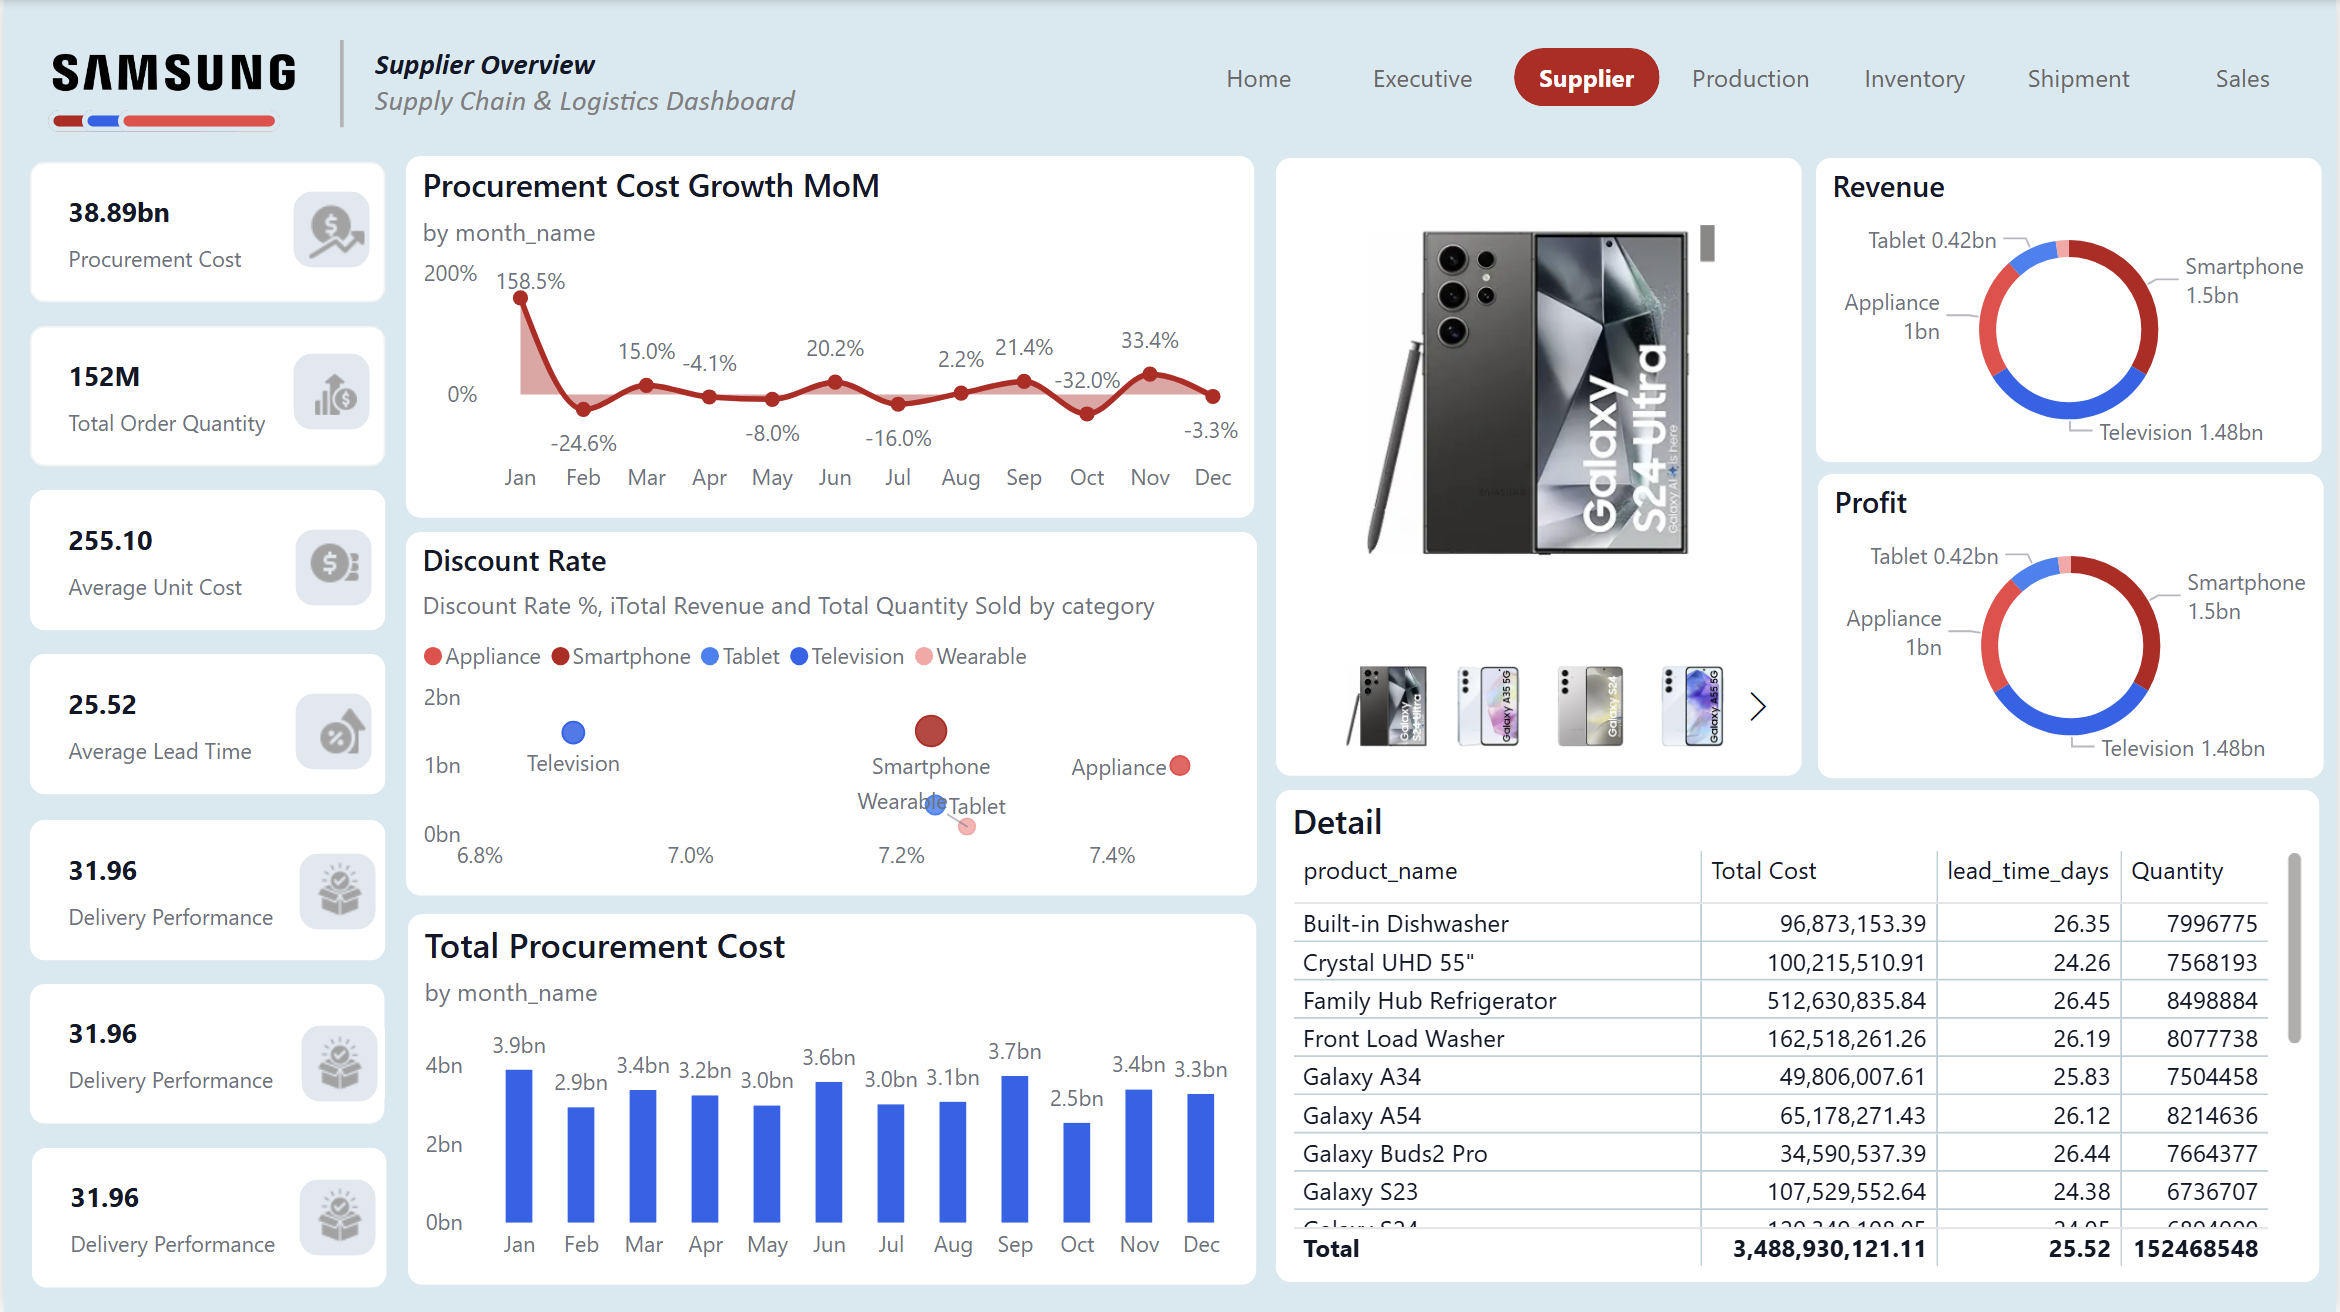

Layout of this report page (visuals, bound fields, positions):
{"tool":"powerbi","page":{"name":"Supplier","canvas":[1280,720],"ordinal":2},"visuals":[{"type":"shape","box":[698.1,86.9,288.7,338.9],"z":0},{"type":"cardVisual","fields":{"Data":["MeasureTable.Delivery Performance Score"]},"box":[13.7,449.5,195,77],"z":1000},{"type":"tableEx","title":"Detail","fields":{"Values":["dim_product.product_name","MeasureTable.Total Cost","Avg(fact_procurement.lead_time_days)","MeasureTable.Total Order Quantity"]},"box":[697.9,433,572.3,269.9],"z":2000},{"type":"areaChart","fields":{"Category":["dim_date.month_name"],"Y":["MeasureTable.Procurement Cost Growth MoM"]},"box":[220.9,85.4,465.7,198.3],"z":3000},{"type":"scatterChart","title":"Discount Rate ","fields":{"X":["MeasureTable.Discount Rate %"],"Y":["MeasureTable.iTotal Revenue"],"Size":["MeasureTable.Total Quantity Sold"],"Series":["dim_product.category"]},"box":[220.9,292.5,466.9,199.6],"z":4000},{"type":"clusteredColumnChart","fields":{"Category":["dim_date.month_name"],"Y":["MeasureTable.Total Procurement Cost"]},"box":[222.2,502.1,465.7,203.3],"z":5000},{"type":"cardVisual","fields":{"Data":["MeasureTable.Total Procurement Cost"]},"box":[13.7,88.6,195,77],"z":6000},{"type":"cardVisual","fields":{"Data":["MeasureTable.Average Lead Time Days"]},"box":[13.7,359.3,195,77],"z":7000},{"type":"cardVisual","fields":{"Data":["MeasureTable.Average Unit Cost"]},"box":[13.7,269,195,77],"z":8000},{"type":"cardVisual","fields":{"Data":["MeasureTable.Total Order Quantity"]},"box":[13.7,178.8,195,77],"z":9000},{"type":"shape","box":[154.6,101.3,50,50],"z":10000},{"type":"shape","box":[154.9,189.5,50,50],"z":11000},{"type":"shape","box":[156.1,376,50,50],"z":12000},{"type":"shape","box":[155.8,286.3,50,50],"z":13000},{"type":"shape","box":[158.5,464.3,50,50],"z":14000},{"type":"image","box":[162.8,106.6,40.5,40.5],"z":15000},{"type":"image","box":[165.7,198.6,32.9,35.4],"z":16000},{"type":"image","box":[165.7,381.3,40.5,40.5],"z":17000},{"type":"image","box":[162.9,288.7,38.1,40.5],"z":18000},{"type":"image","box":[164.4,467.9,39.3,40.5],"z":19000},{"type":"advancedSlicerVisual","fields":{"Values":["dim_product.Img"]},"box":[742,118.2,202.1,195.8],"z":20000},{"type":"advancedSlicerVisual","fields":{"Values":["dim_product.Img"]},"box":[705.4,355.2,276.1,64],"z":21000},{"type":"donutChart","title":"Revenue","fields":{"Y":["MeasureTable.iTotal Revenue"],"Category":["dim_product.category"]},"box":[994.1,86.6,277.4,166.9],"z":22000},{"type":"cardVisual","fields":{"Data":["MeasureTable.Delivery Performance Score"]},"box":[13.8,539.7,194.5,76.6],"z":23000},{"type":"shape","box":[158.6,559.2,50,50],"z":24000},{"type":"image","box":[164.6,562.8,39.3,40.5],"z":25000},{"type":"donutChart","title":"Profit","fields":{"Y":["MeasureTable.iTotal Revenue"],"Category":["dim_product.category"]},"box":[995.3,259.8,277.4,166.9],"z":26000},{"type":"cardVisual","fields":{"Data":["MeasureTable.Delivery Performance Score"]},"box":[15.8,629.5,194.5,76.6],"z":27000},{"type":"shape","box":[158.2,642.8,50,50],"z":28000},{"type":"image","box":[164.2,646.4,39.3,40.5],"z":29000},{"type":"image","box":[11.3,15.1,158.1,47.7],"z":30000},{"type":"pageNavigator","box":[648.8,26.2,621.4,32.1],"z":31000},{"type":"shape","box":[156.9,21.5,56.9,48.1],"z":32000},{"type":"shape","box":[23.9,60,89.1,12],"z":33000},{"type":"shape","box":[42.7,60,89.1,12],"z":34000},{"type":"shape","box":[62.8,60,89.1,12],"z":35000},{"type":"textbox","box":[198.3,21.3,362.7,69],"z":36000}]}

Visuals, with their boxes in screenshot pixels (x1, y1, x2, y2), scaled from the page's 1280x720 canvas onto the 2340x1312 screenshot:
shape: 1276, 158, 1804, 776
cardVisual - MeasureTable.Delivery Performance Score: 25, 819, 382, 959
"Detail" tableEx: 1276, 789, 2322, 1281
areaChart - dim_date.month_name x MeasureTable.Procurement Cost Growth MoM: 404, 156, 1255, 517
"Discount Rate " scatterChart: 404, 533, 1257, 897
clusteredColumnChart - dim_date.month_name x MeasureTable.Total Procurement Cost: 406, 915, 1258, 1285
cardVisual - MeasureTable.Total Procurement Cost: 25, 161, 382, 302
cardVisual - MeasureTable.Average Lead Time Days: 25, 655, 382, 795
cardVisual - MeasureTable.Average Unit Cost: 25, 490, 382, 630
cardVisual - MeasureTable.Total Order Quantity: 25, 326, 382, 466
shape: 283, 185, 374, 276
shape: 283, 345, 375, 436
shape: 285, 685, 377, 776
shape: 285, 522, 376, 613
shape: 290, 846, 381, 937
image: 298, 194, 372, 268
image: 303, 362, 363, 426
image: 303, 695, 377, 769
image: 298, 526, 367, 600
image: 301, 853, 372, 926
advancedSlicerVisual - dim_product.Img: 1356, 215, 1726, 572
advancedSlicerVisual - dim_product.Img: 1290, 647, 1794, 764
"Revenue" donutChart: 1817, 158, 2324, 462
cardVisual - MeasureTable.Delivery Performance Score: 25, 983, 381, 1123
shape: 290, 1019, 381, 1110
image: 301, 1026, 373, 1099
"Profit" donutChart: 1820, 473, 2327, 778
cardVisual - MeasureTable.Delivery Performance Score: 29, 1147, 384, 1287
shape: 289, 1171, 381, 1262
image: 300, 1178, 372, 1252
image: 21, 28, 310, 114
pageNavigator: 1186, 48, 2322, 106
shape: 287, 39, 391, 127
shape: 44, 109, 207, 131
shape: 78, 109, 241, 131
shape: 115, 109, 278, 131
textbox: 363, 39, 1026, 165
